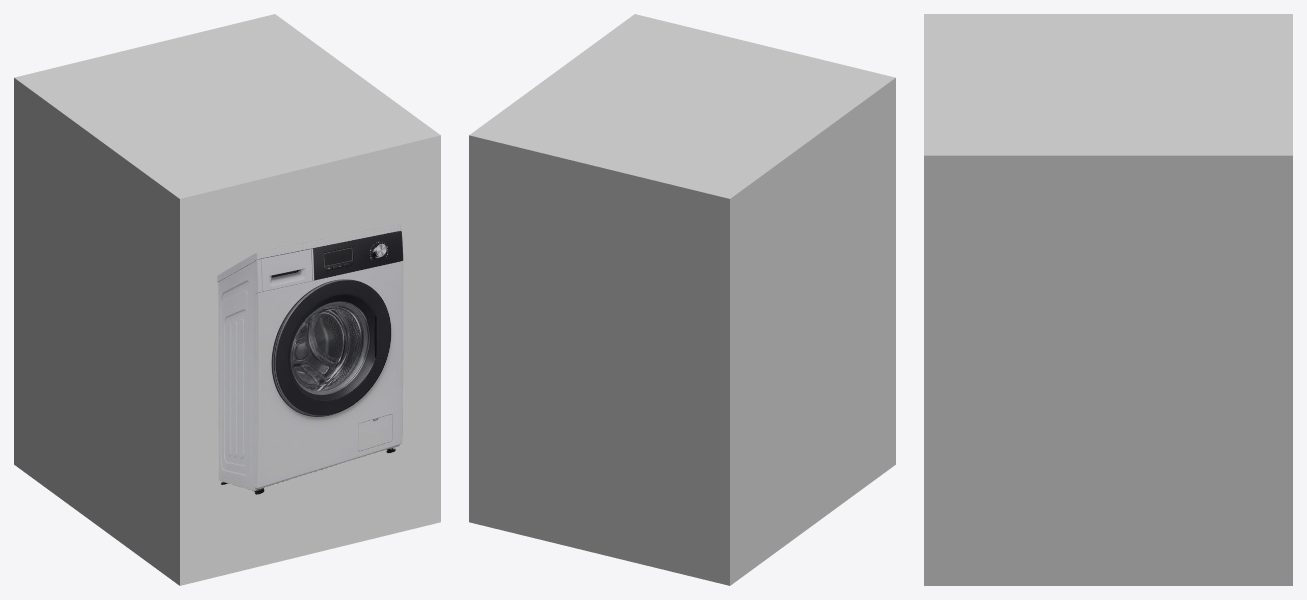
The model's file is p-aeg-lr7f49gs.glb.
The picture shows the model from 3 angles, left to right: view 1: azimuth 30°, elevation 25°; view 2: azimuth 150°, elevation 25°; view 3: azimuth 270°, elevation 25°; orthographic projection. The views are drawn at different scales.
Visible parts, largest first — view 1: product; view 2: product; view 3: product.
Part boxes in pixels (x1,y1,x2,y2): product: (14,14,440,585); product: (469,14,895,585); product: (924,14,1292,585).
Bounding box in the file's own units: 0.6 × 0.85 × 0.66.
2 materials, 1 textured.
